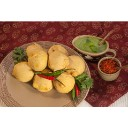bonda: (55, 73, 74, 93), (12, 63, 32, 81), (29, 51, 47, 70), (34, 74, 53, 92), (50, 53, 68, 71), (67, 57, 85, 75)
